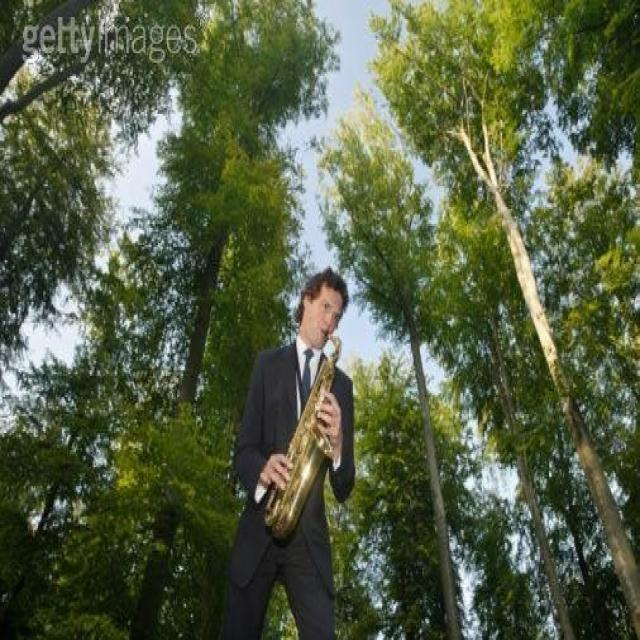saxophone: (263, 329, 341, 539)
